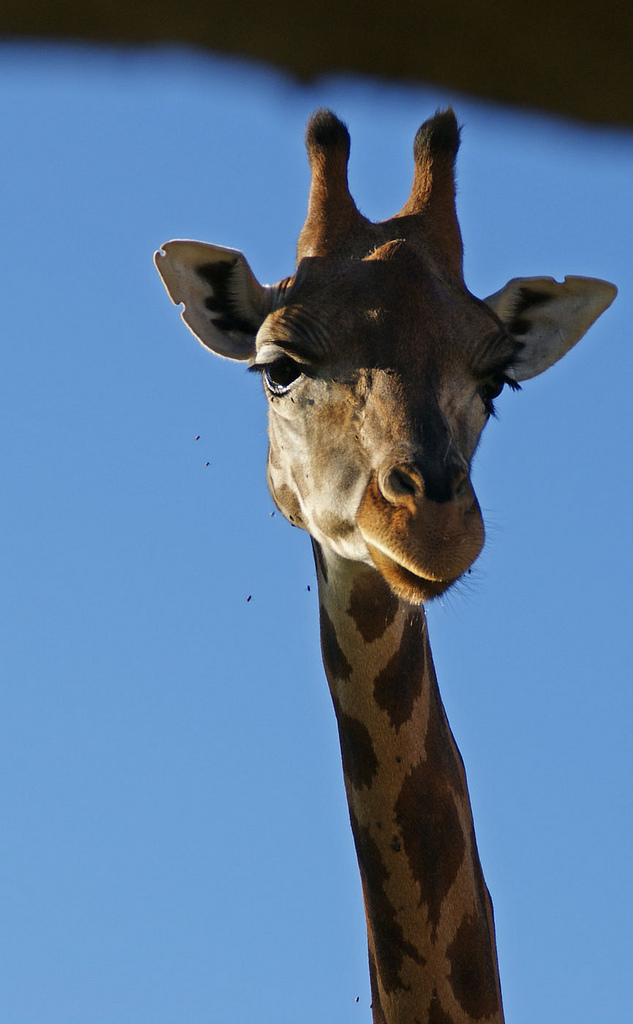giraffe: (154, 84, 627, 958)
